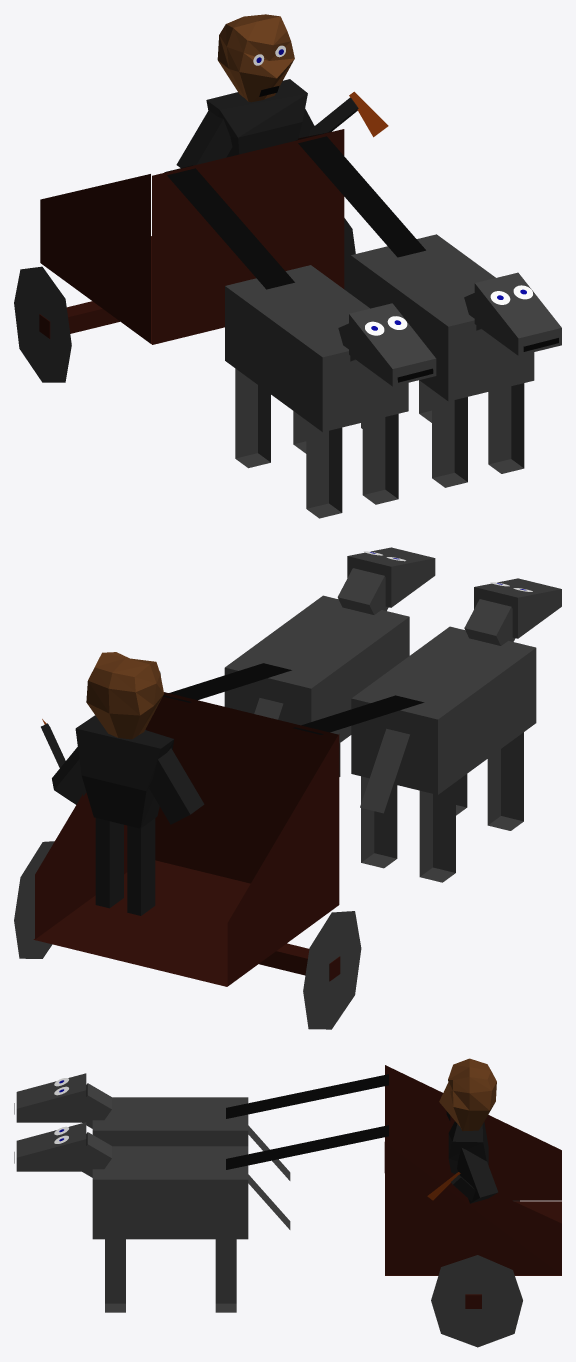
File: lightchariot3f.obj
3 renders of one model, top to bottom at view 1: azimuth 30°, elevation 25°; view 2: azimuth 150°, elevation 25°; view 3: azimuth 270°, elevation 25°, orthographic. The views are drawn at different scales.
Visible parts, largest first — view 1: Plane.005_Plane.006, Cube.015_Cube.017, Cube.006_Cube.009, Plane.003, Plane.007_Plane.008, Cube, Cube.001, Cube.014_Cube.016, Cube.021_Cube.023, Plane.012_Plane.013, Plane.013_Plane.014, Cube.019_Cube.021 (+8 smaller); view 2: Plane.005_Plane.006, Cube.015_Cube.017, Cube.006_Cube.009, Plane.002, Plane.003, Cube.001, Plane.004, Cube, Plane.007_Plane.008, Cube.016_Cube.018, Cube.019_Cube.021, Cube.014_Cube.016 (+13 smaller); view 3: Plane.004, Cube.006_Cube.009, Plane.003, Cube.015_Cube.017, Plane.006_Plane.007, Cube, Cube.014_Cube.016, Cube.021_Cube.023, Plane.012_Plane.013, Plane.013_Plane.014, Cube.010_Cube.012, Cube.011_Cube.013 (+6 smaller).
Part boxes in pixels (x1=…): Plane.005_Plane.006: x1=152, y1=129, x2=344, y2=344; Cube.015_Cube.017: x1=225, y1=265, x2=408, y2=432; Cube.006_Cube.009: x1=350, y1=234, x2=534, y2=401; Plane.003: x1=40, y1=174, x2=150, y2=343; Plane.007_Plane.008: x1=14, y1=266, x2=71, y2=382; Cube: x1=217, y1=14, x2=294, y2=102; Cube.001: x1=206, y1=79, x2=307, y2=157; Cube.014_Cube.016: x1=474, y1=272, x2=561, y2=355; Cube.021_Cube.023: x1=349, y1=303, x2=436, y2=386; Plane.012_Plane.013: x1=164, y1=165, x2=294, y2=289; Plane.013_Plane.014: x1=295, y1=133, x2=425, y2=257; Cube.019_Cube.021: x1=306, y1=420, x2=342, y2=518; Plane.005_Plane.006: x1=146, y1=692, x2=338, y2=883; Cube.015_Cube.017: x1=351, y1=626, x2=536, y2=794; Cube.006_Cube.009: x1=224, y1=595, x2=409, y2=743; Plane.002: x1=33, y1=860, x2=250, y2=986; Plane.003: x1=227, y1=734, x2=339, y2=986; Cube.001: x1=75, y1=715, x2=174, y2=828; Plane.004: x1=35, y1=729, x2=145, y2=939; Cube: x1=86, y1=652, x2=163, y2=739; Plane.007_Plane.008: x1=303, y1=911, x2=361, y2=1029; Cube.016_Cube.018: x1=419, y1=782, x2=455, y2=882; Cube.019_Cube.021: x1=487, y1=732, x2=523, y2=830; Cube.014_Cube.016: x1=347, y1=547, x2=435, y2=607; Plane.004: x1=384, y1=1142, x2=561, y2=1274; Cube.006_Cube.009: x1=92, y1=1146, x2=248, y2=1239; Plane.003: x1=385, y1=1065, x2=561, y2=1200; Cube.015_Cube.017: x1=92, y1=1097, x2=248, y2=1146; Plane.006_Plane.007: x1=431, y1=1255, x2=522, y2=1347; Cube: x1=439, y1=1058, x2=496, y2=1131; Cube.014_Cube.016: x1=16, y1=1122, x2=86, y2=1171; Cube.021_Cube.023: x1=16, y1=1073, x2=86, y2=1122; Plane.012_Plane.013: x1=226, y1=1074, x2=388, y2=1118; Plane.013_Plane.014: x1=226, y1=1125, x2=388, y2=1169; Cube.010_Cube.012: x1=215, y1=1239, x2=236, y2=1312; Cube.011_Cube.013: x1=105, y1=1239, x2=125, y2=1312.
Size of the model in its own units: 7.89 by 7.5 by 14.9.
